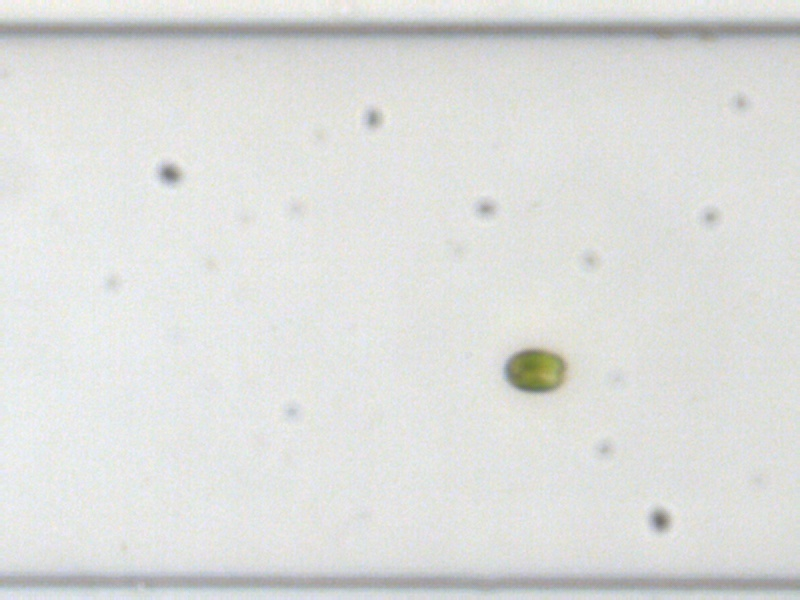Platymonas: (499, 344, 570, 394)
